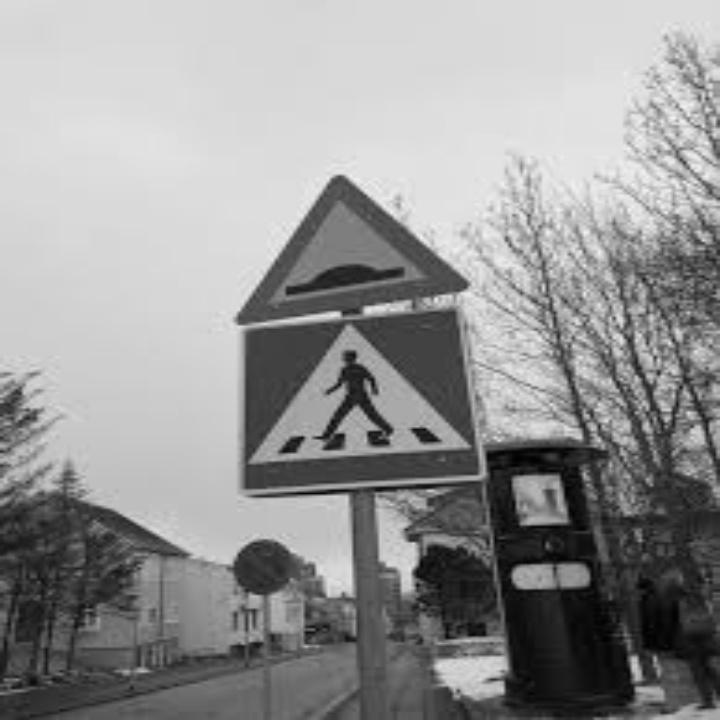bump: (268, 246, 430, 291)
cross: (286, 337, 436, 452)
